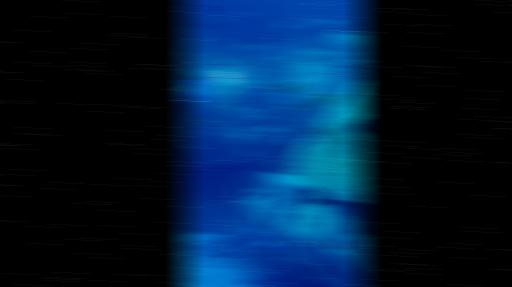Fish: (297, 14, 344, 30), (305, 92, 338, 111), (304, 187, 331, 206), (274, 76, 303, 93), (180, 84, 201, 95), (279, 144, 302, 154), (350, 119, 365, 133), (193, 117, 212, 127), (333, 237, 345, 249), (279, 20, 296, 28), (281, 252, 298, 260), (314, 127, 326, 137), (282, 108, 297, 113), (192, 19, 206, 24), (212, 17, 225, 22), (180, 6, 193, 11), (199, 12, 211, 17), (272, 161, 286, 165), (240, 11, 250, 16), (196, 0, 210, 3), (279, 122, 288, 126), (220, 37, 227, 42), (318, 13, 325, 18)
